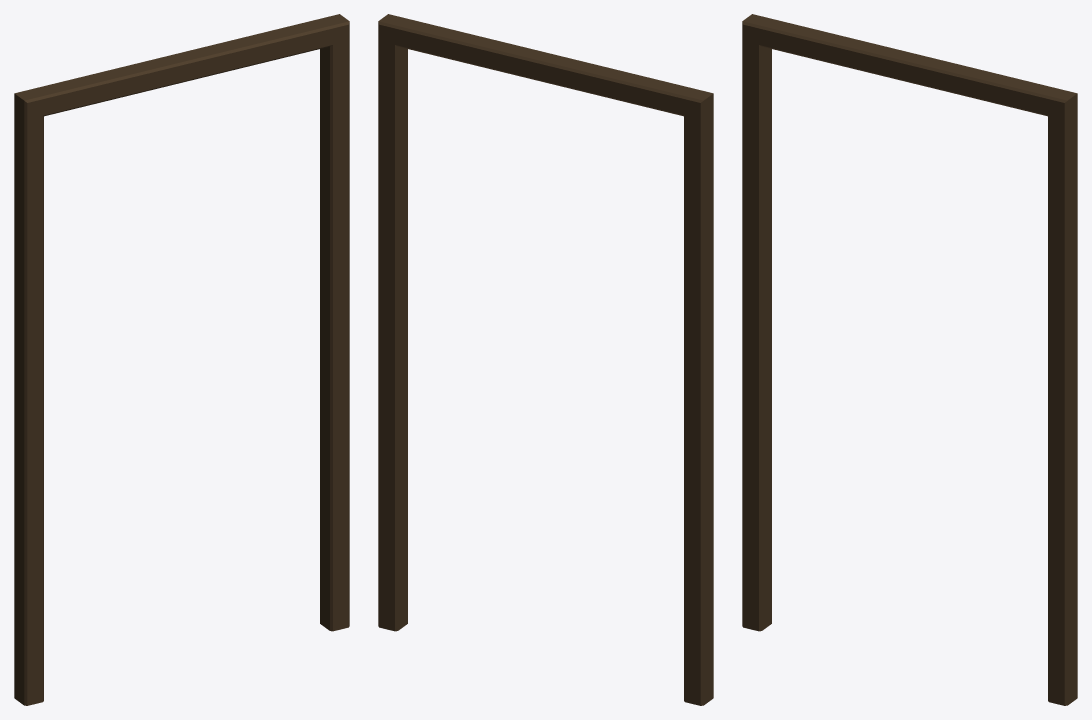
File: Door-FrameSimple.fbx
3 views of the same model, side by side, from view 1: azimuth 30°, elevation 25°; view 2: azimuth 150°, elevation 25°; view 3: azimuth 330°, elevation 25° (orthographic).
Parts seen in each view (by area): view 1: pCube102; view 2: pCube102; view 3: pCube102.
Boxes of the visible parts, left/top/right/bottom form: pCube102: left=14, top=14, right=349, bottom=705; pCube102: left=378, top=14, right=713, bottom=705; pCube102: left=742, top=14, right=1077, bottom=705.
Bounding box in the file's own units: 1.65 × 2.94 × 0.1074.
